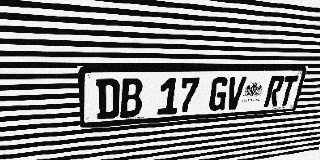1: (157, 77, 180, 115)
7: (177, 77, 200, 114)
B: (120, 78, 143, 118)
D: (96, 79, 120, 120)
G: (207, 77, 230, 111)
R: (263, 76, 285, 107)
T: (277, 75, 299, 106)
V: (224, 76, 246, 110)
